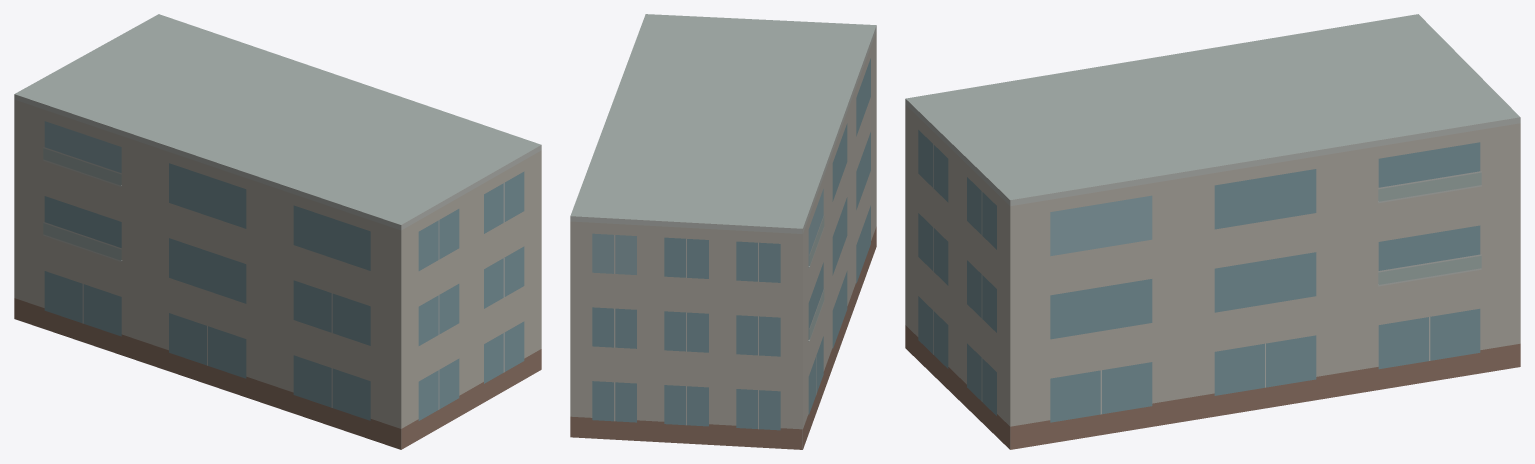
Rendered from survey-upis-32755120.glb.
3 renders of one model, left to right at view 1: azimuth 30°, elevation 25°; view 2: azimuth 150°, elevation 25°; view 3: azimuth 270°, elevation 25°, orthographic. The views are drawn at different scales.
Parts seen in each view (by area): view 1: survey-upis-32755120.tmp; view 2: survey-upis-32755120.tmp; view 3: survey-upis-32755120.tmp.
Boxes of the visible parts, box(x1,y1,x2,y2) form: survey-upis-32755120.tmp: box(14, 14, 541, 449); survey-upis-32755120.tmp: box(570, 14, 876, 449); survey-upis-32755120.tmp: box(905, 14, 1520, 449).
Size of the model in its own units: 16.17 by 10.1 by 22.56.
